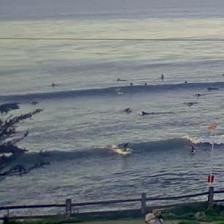surfer: (207, 86, 218, 90), (190, 146, 196, 153), (123, 143, 129, 150), (124, 108, 132, 113), (31, 100, 39, 105), (142, 112, 149, 116), (116, 89, 123, 93), (117, 79, 126, 82), (188, 102, 194, 105), (52, 83, 56, 87), (161, 74, 164, 79), (130, 82, 133, 86), (144, 82, 147, 86), (196, 94, 200, 96), (223, 101, 224, 108), (223, 72, 224, 76), (186, 81, 188, 83)
